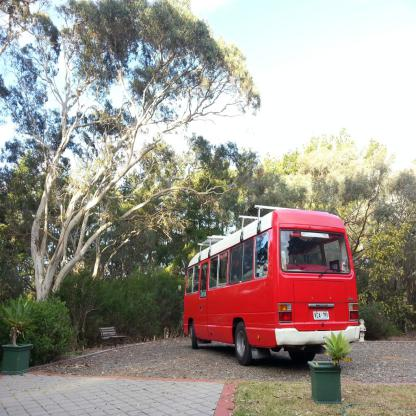Bus: (183, 202, 357, 363)
